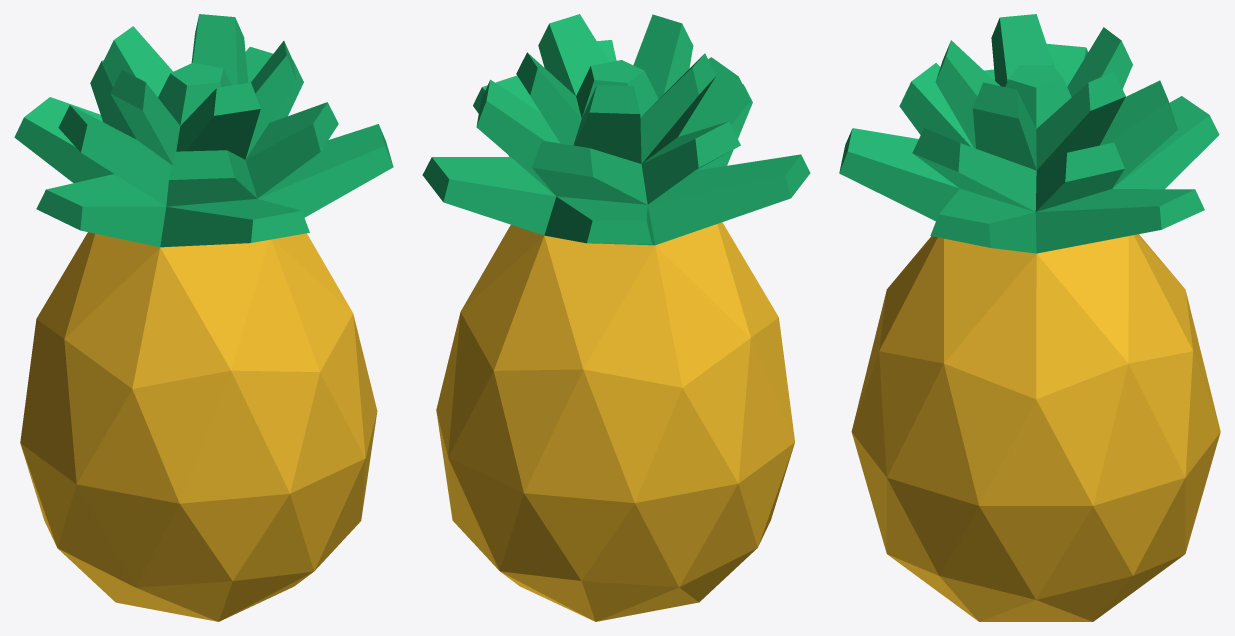
Rendered from pineapple.glb.
The picture shows the model from 3 angles, left to right: view 1: azimuth 30°, elevation 25°; view 2: azimuth 150°, elevation 25°; view 3: azimuth 270°, elevation 25°; orthographic projection.
Parts seen in each view (by area): view 1: Ananas; view 2: Ananas; view 3: Ananas.
Part boxes in pixels (x1,y1,x2,y2): Ananas: (14, 14, 393, 621); Ananas: (422, 14, 810, 621); Ananas: (839, 14, 1220, 621).
Bounding box in the file's own units: 0.1054 × 0.1679 × 0.1033.
Materials: 1 (1 with a texture image).
